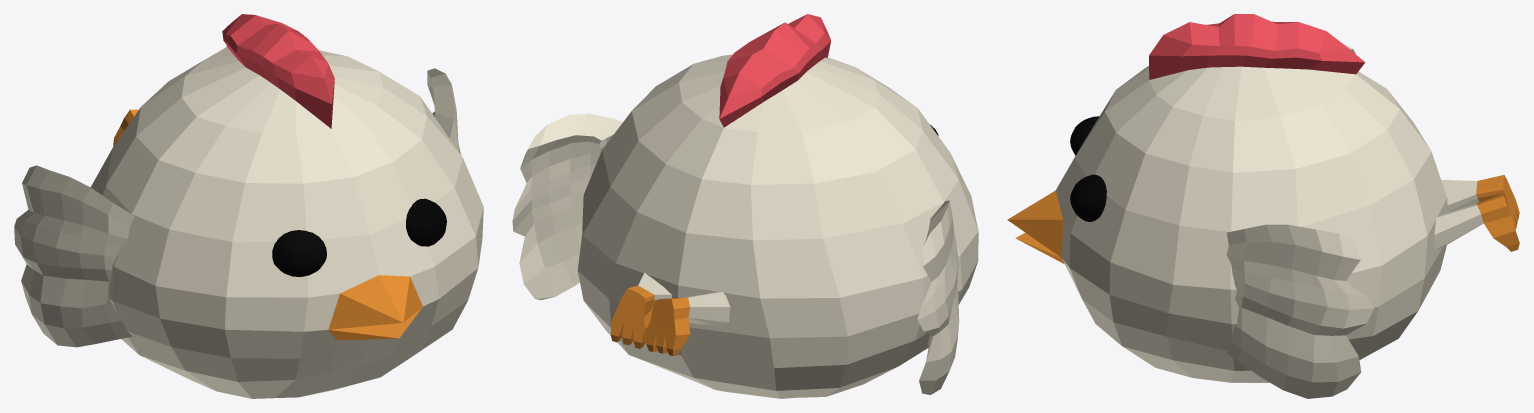
The model's file is ChickenBullet.fbx.
3 views of the same model, side by side, from view 1: azimuth 30°, elevation 25°; view 2: azimuth 150°, elevation 25°; view 3: azimuth 270°, elevation 25° (orthographic).
Parts seen in each view (by area): view 1: main.c, main.c.002, eyel; view 2: main.c, main.c.002, main.c.001; view 3: main.c, main.c.002, main.c.001, eyel.
Boxes of the visible parts, left/top/right/bottom form: main.c: left=90, top=14, right=483, bottom=398; main.c.002: left=14, top=68, right=461, bottom=347; eyel: left=272, top=198, right=446, bottom=276; main.c: left=577, top=14, right=978, bottom=398; main.c.002: left=512, top=113, right=959, bottom=394; main.c.001: left=610, top=273, right=730, bottom=355; main.c: left=1007, top=14, right=1447, bottom=382; main.c.002: left=1226, top=42, right=1373, bottom=398; main.c.001: left=1434, top=175, right=1519, bottom=251; eyel: left=1070, top=116, right=1106, bottom=221.
Size of the model in its own units: 25.05 by 19.7 by 26.74.
